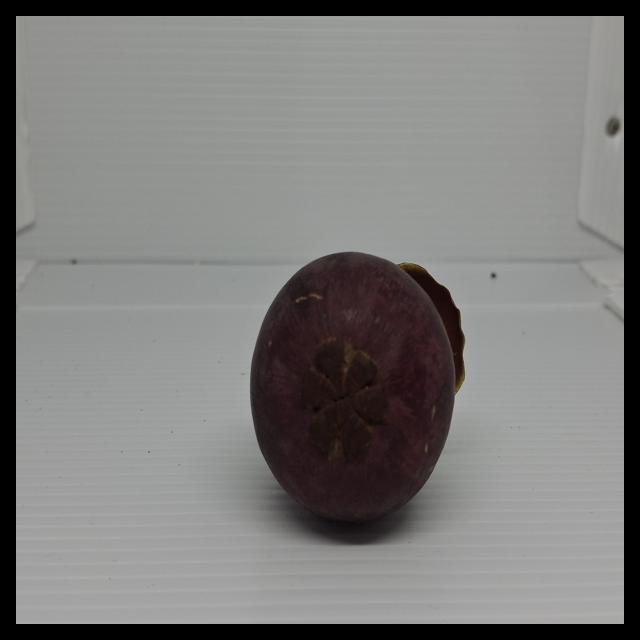mangosteen: (246, 229, 500, 529)
